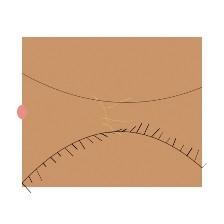corneal_ulcer: (82, 97, 127, 134)
